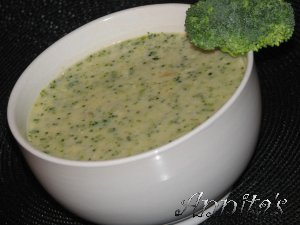broccoli: (186, 1, 298, 58)
